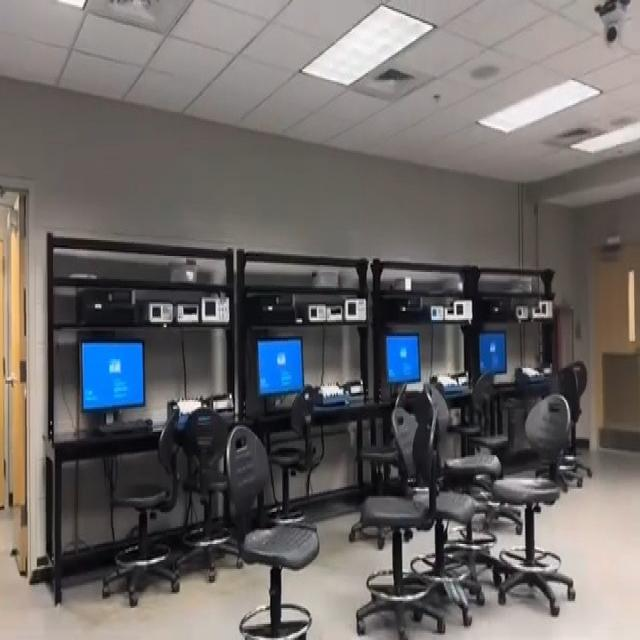drone: (430, 557, 476, 621)
